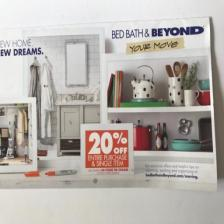paper: (0, 20, 220, 202)
